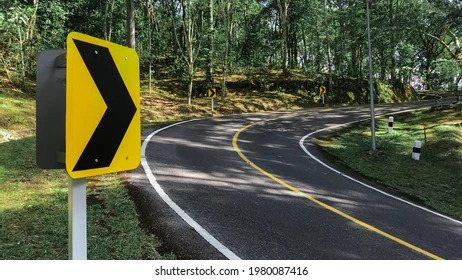rightTrun: (179, 105, 319, 209)
